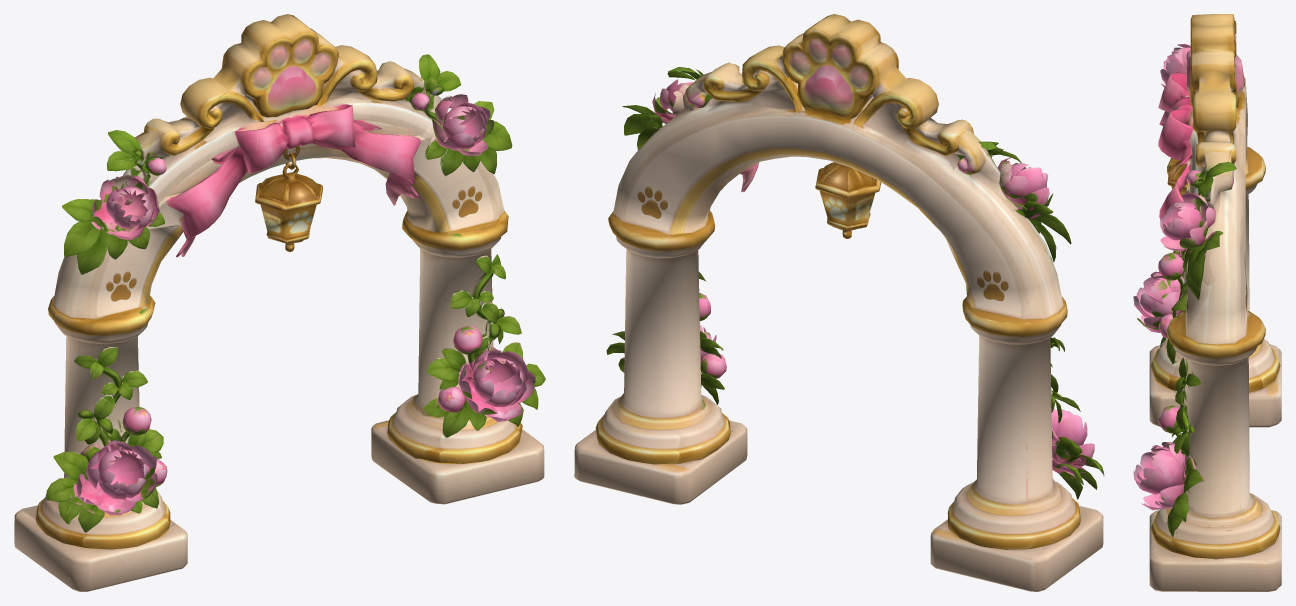
The model's file is Meshy_AI_Paw_Blossom_Arch_1114025930_texture.glb.
The picture shows the model from 3 angles, left to right: view 1: azimuth 30°, elevation 25°; view 2: azimuth 150°, elevation 25°; view 3: azimuth 270°, elevation 25°; orthographic projection. The views are drawn at different scales.
Size of the model in its own units: 0.9556 by 0.8936 by 0.2598.
Materials: 1 (1 with a texture image).
